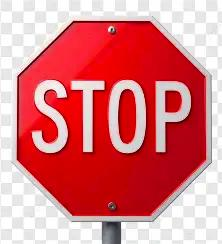Stop: (14, 18, 210, 220)
